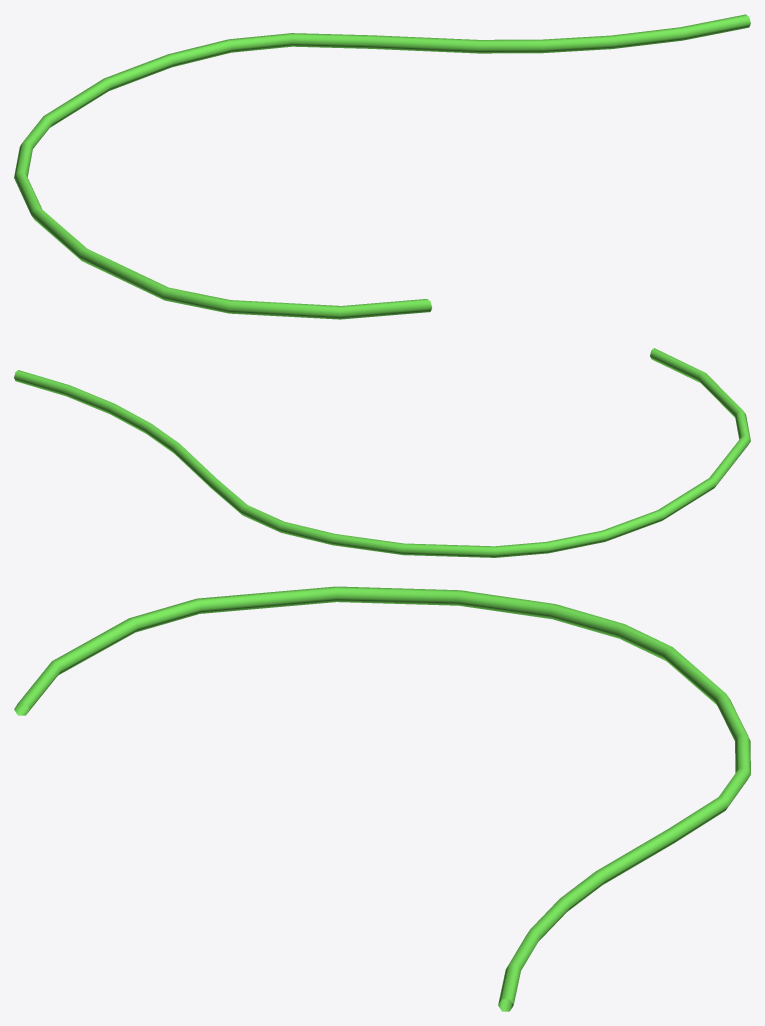
File: Wire_02_D.fbx
The picture shows the model from 3 angles, top to bottom: view 1: azimuth 30°, elevation 25°; view 2: azimuth 150°, elevation 25°; view 3: azimuth 270°, elevation 25°; orthographic projection. The views are drawn at different scales.
Parts seen in each view (by area): view 1: Wire_02_D; view 2: Wire_02_D; view 3: Wire_02_D.
Part boxes in pixels (x1=…): Wire_02_D: x1=14, y1=14, x2=750, y2=319; Wire_02_D: x1=14, y1=348, x2=750, y2=557; Wire_02_D: x1=14, y1=586, x2=750, y2=1011.
Size of the model in its own units: 159 by 2.2 by 119.
